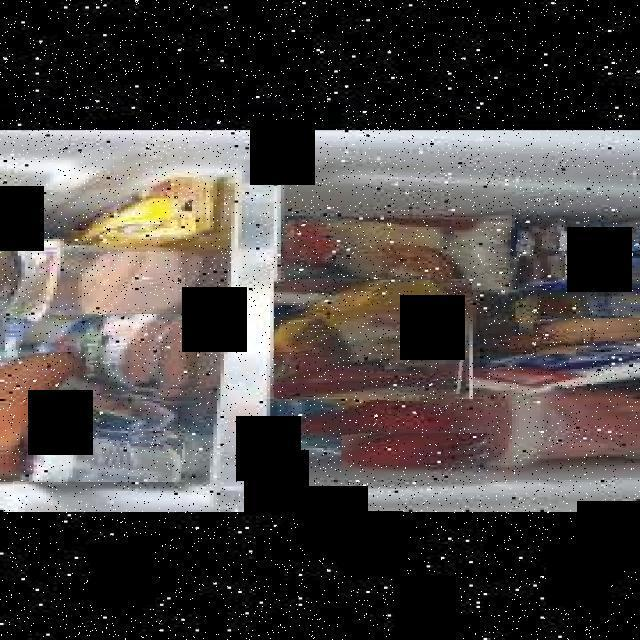carrot: (0, 352, 82, 484)
cheese: (20, 423, 183, 482), (0, 299, 60, 350)
egg: (533, 318, 640, 339), (484, 329, 576, 352)
grated_cheese: (286, 213, 521, 290)
sausage: (70, 314, 198, 399)
tomato: (341, 433, 487, 465), (336, 397, 450, 431)
tortillas: (274, 279, 473, 397)
yogurt: (515, 215, 640, 251)
